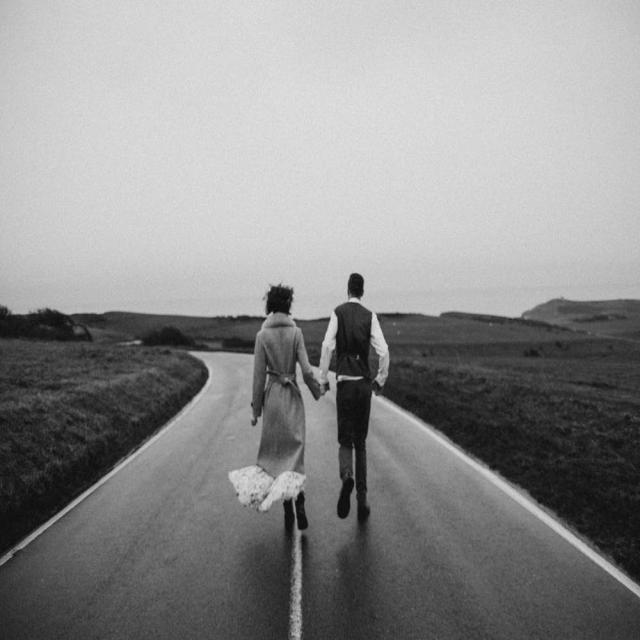running: (248, 282, 322, 536), (322, 271, 394, 523)
